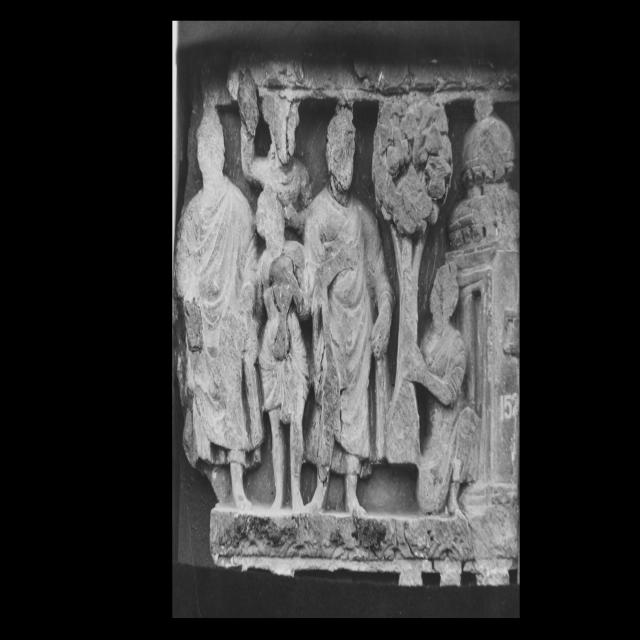buddha-standing: (304, 109, 392, 513)
